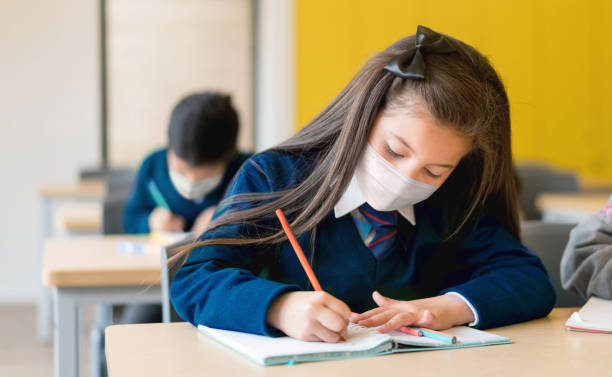with mask: (345, 73, 479, 222), (163, 115, 226, 201)
